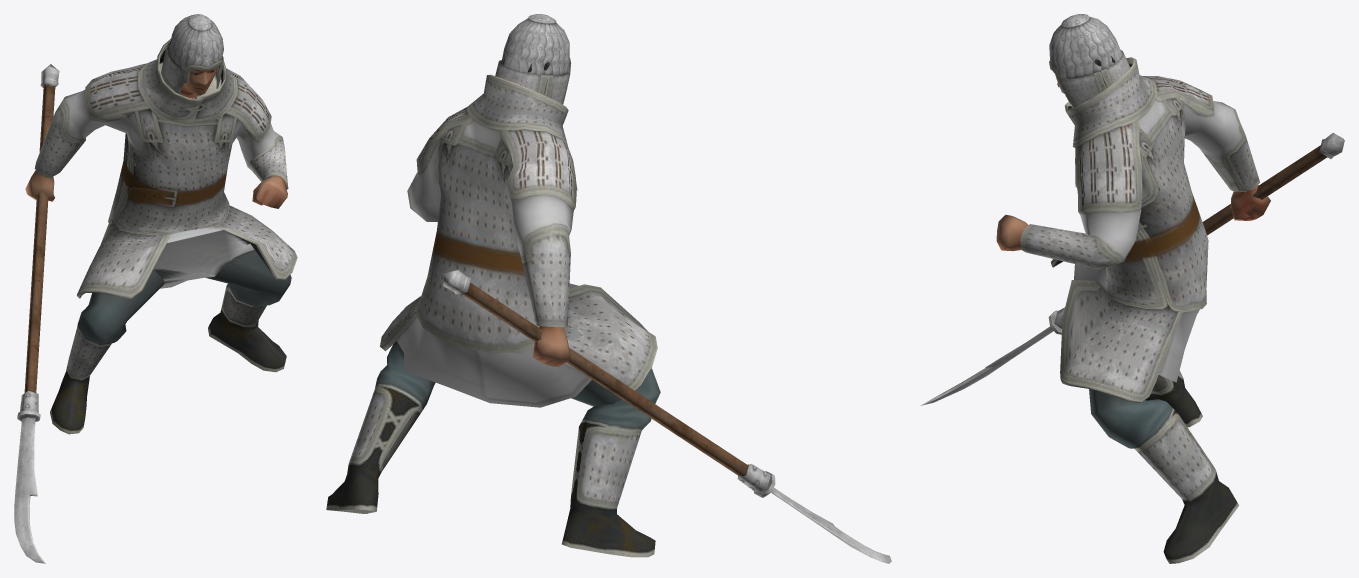
The model's file is rider-heavycavalry.glb.
3 views of the same model, side by side, from view 1: azimuth 30°, elevation 25°; view 2: azimuth 150°, elevation 25°; view 3: azimuth 270°, elevation 25° (orthographic). The views are drawn at different scales.
Bounding box in the file's own units: 1.73 × 2.05 × 1.53.
Materials: 3 (3 with a texture image).
